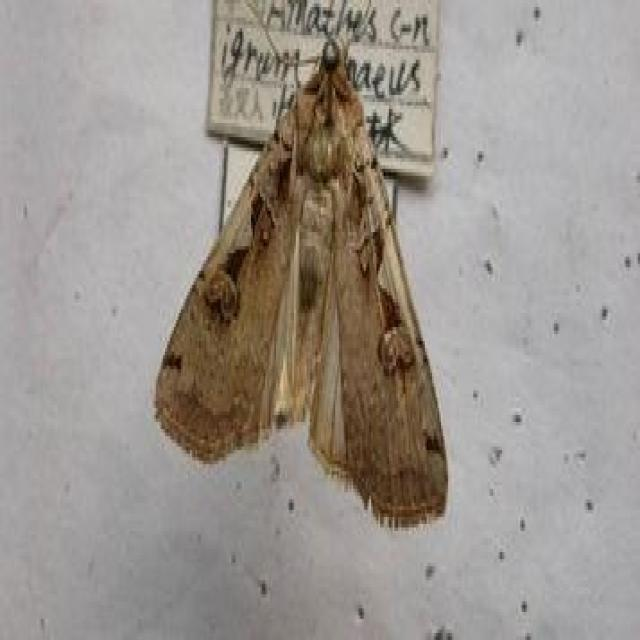black cutworm: (152, 33, 464, 546)
